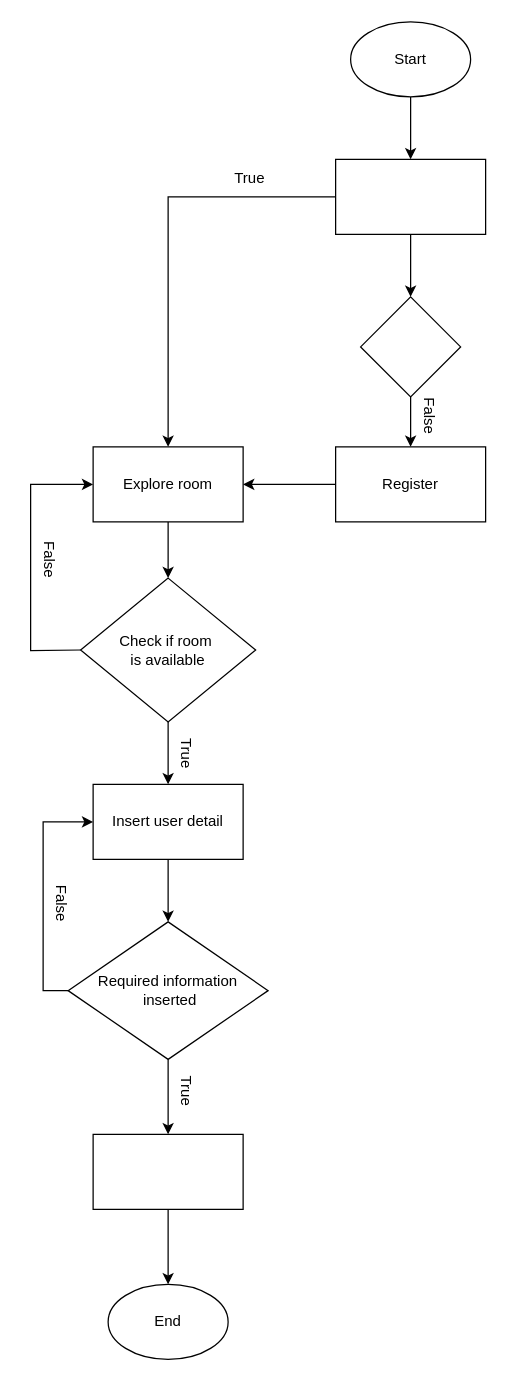
Image size: 508x1381. Some labels were removed from this diagram. Each missing label, with the centre of its shape:
Confirm booking: point (167, 1171)
Home page: point (410, 196)
Login: point (410, 346)
